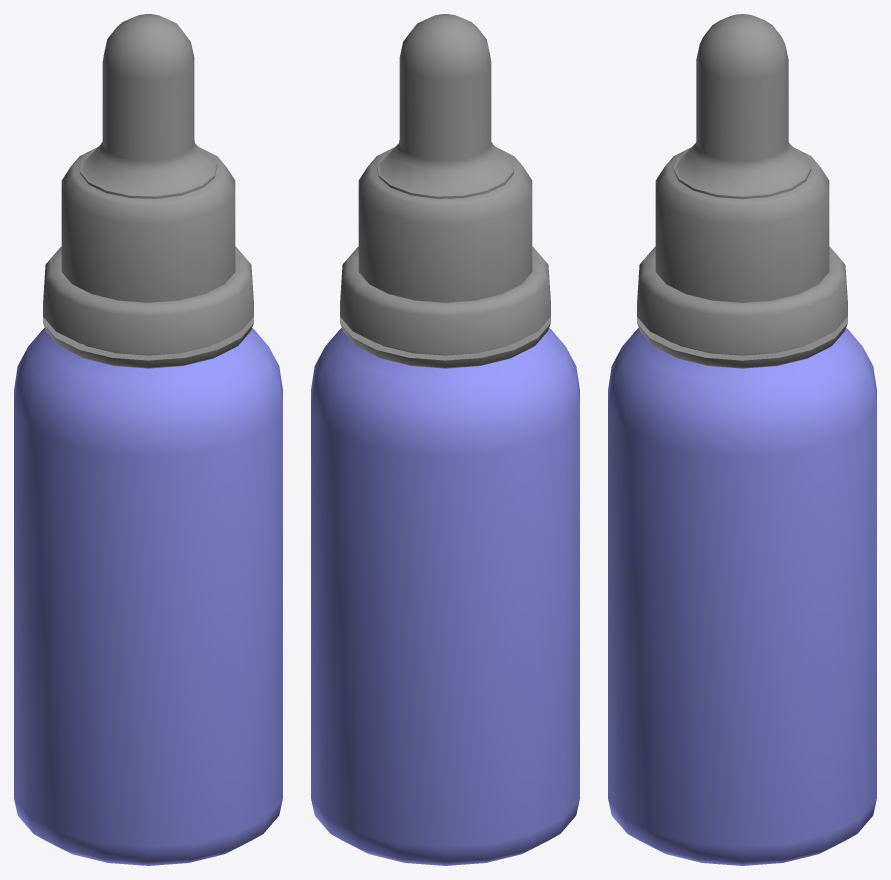
Rendered from SM_Dropper_Pipette_LOD0.FBX.
The picture shows the model from 3 angles, left to right: view 1: azimuth 30°, elevation 25°; view 2: azimuth 150°, elevation 25°; view 3: azimuth 270°, elevation 25°; orthographic projection.
Parts seen in each view (by area): view 1: SM_Dropper_Pipette_Glass, SM_Dropper_Pipette_Top; view 2: SM_Dropper_Pipette_Glass, SM_Dropper_Pipette_Top; view 3: SM_Dropper_Pipette_Glass, SM_Dropper_Pipette_Top.
Part boxes in pixels (left/top/right/bottom): SM_Dropper_Pipette_Glass: left=14, top=328, right=282, bottom=865; SM_Dropper_Pipette_Top: left=43, top=14, right=253, bottom=368; SM_Dropper_Pipette_Glass: left=311, top=328, right=579, bottom=865; SM_Dropper_Pipette_Top: left=340, top=14, right=550, bottom=368; SM_Dropper_Pipette_Glass: left=608, top=328, right=876, bottom=865; SM_Dropper_Pipette_Top: left=637, top=14, right=847, bottom=368.
Bounding box in the file's own units: 0.033 × 0.1069 × 0.0325.
